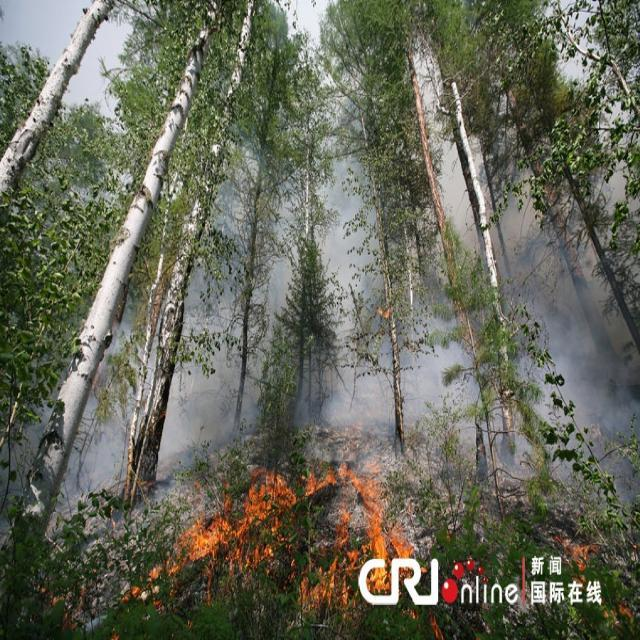Fire: (120, 456, 447, 640), (552, 532, 598, 589), (603, 602, 633, 626), (377, 305, 391, 319)
Smoke: (1, 1, 640, 523)
